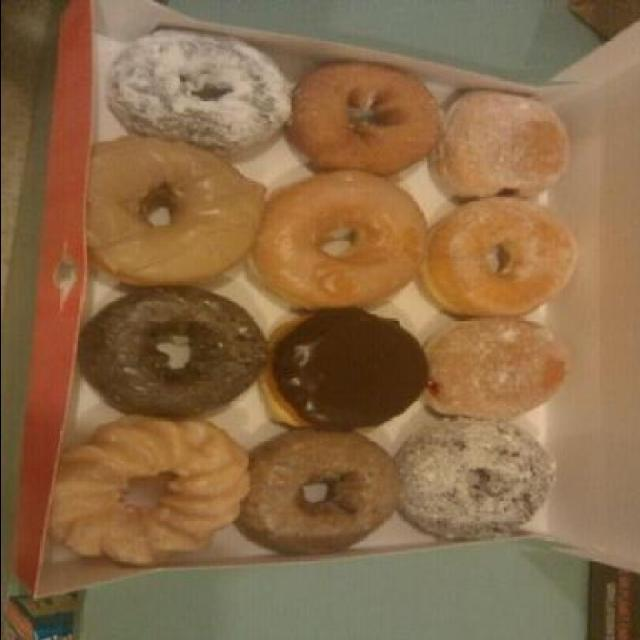Donuts: (52, 52, 572, 570)
